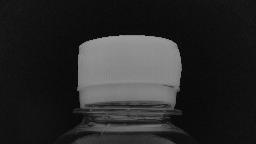Broken Cap: (69, 28, 187, 118)
